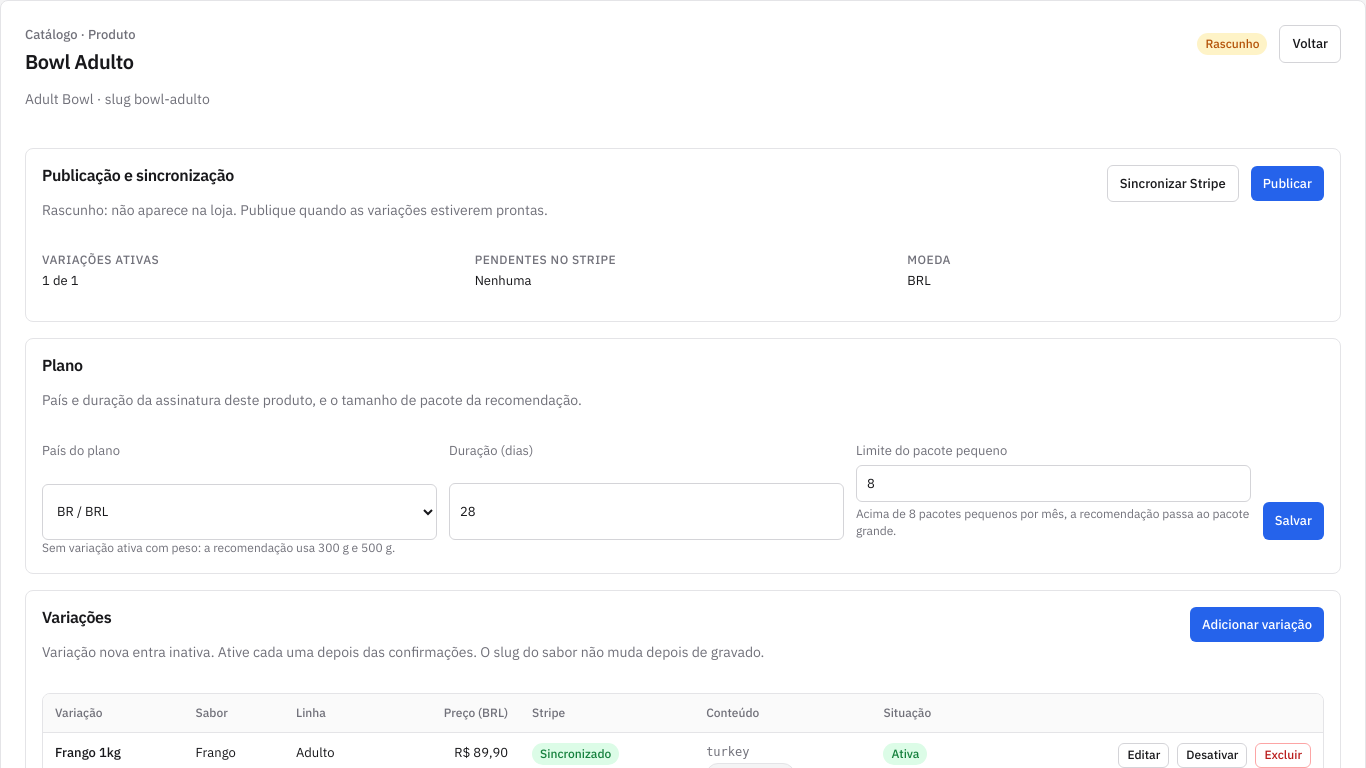
Test: ProductDetailPage › saves the variation flavor in the product payload
Click the button with aria-label "Editar variação Frango 1kg" at (1144, 755), box [1118, 743, 1169, 767]
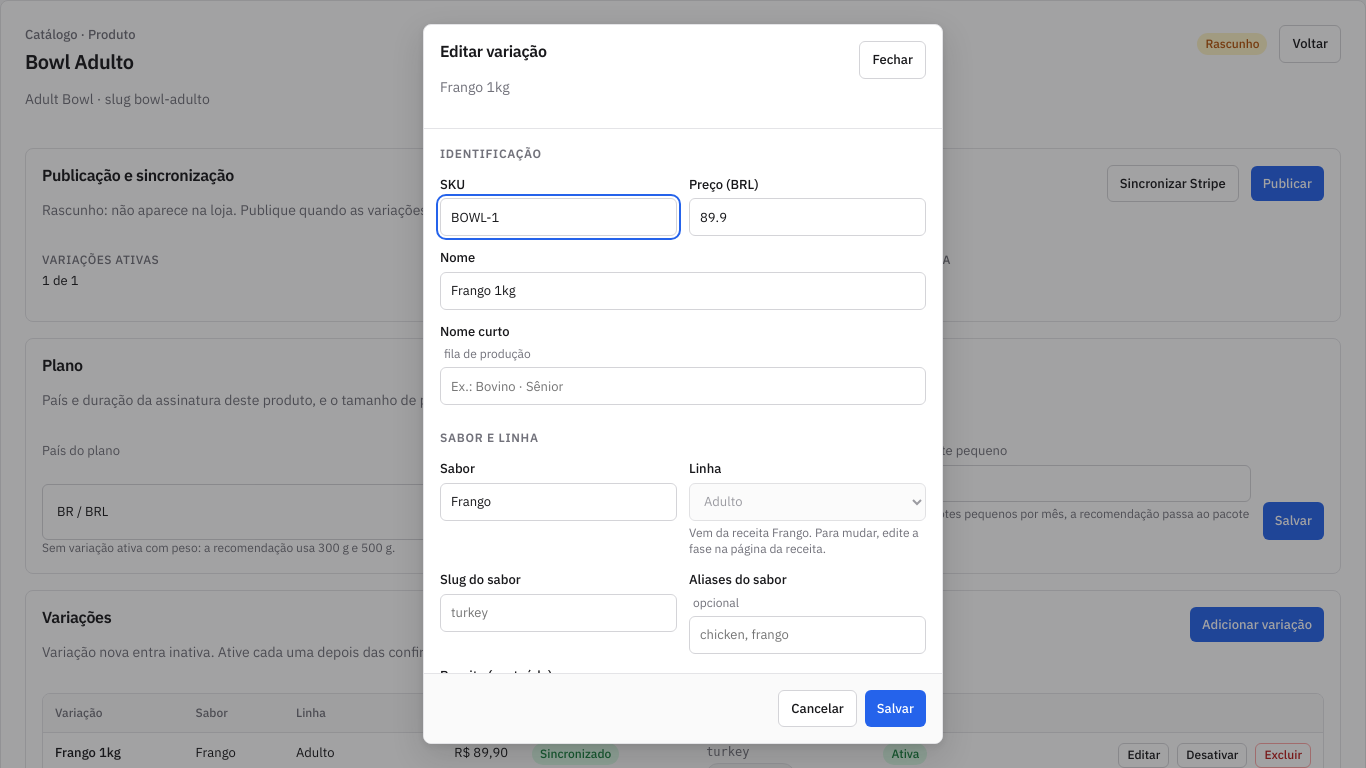
Result: the field labelled "Sabor" holds "Frango"
Replace the text in the field labelled "Sabor" with "Lamb" at (558, 502), box [440, 483, 677, 521]
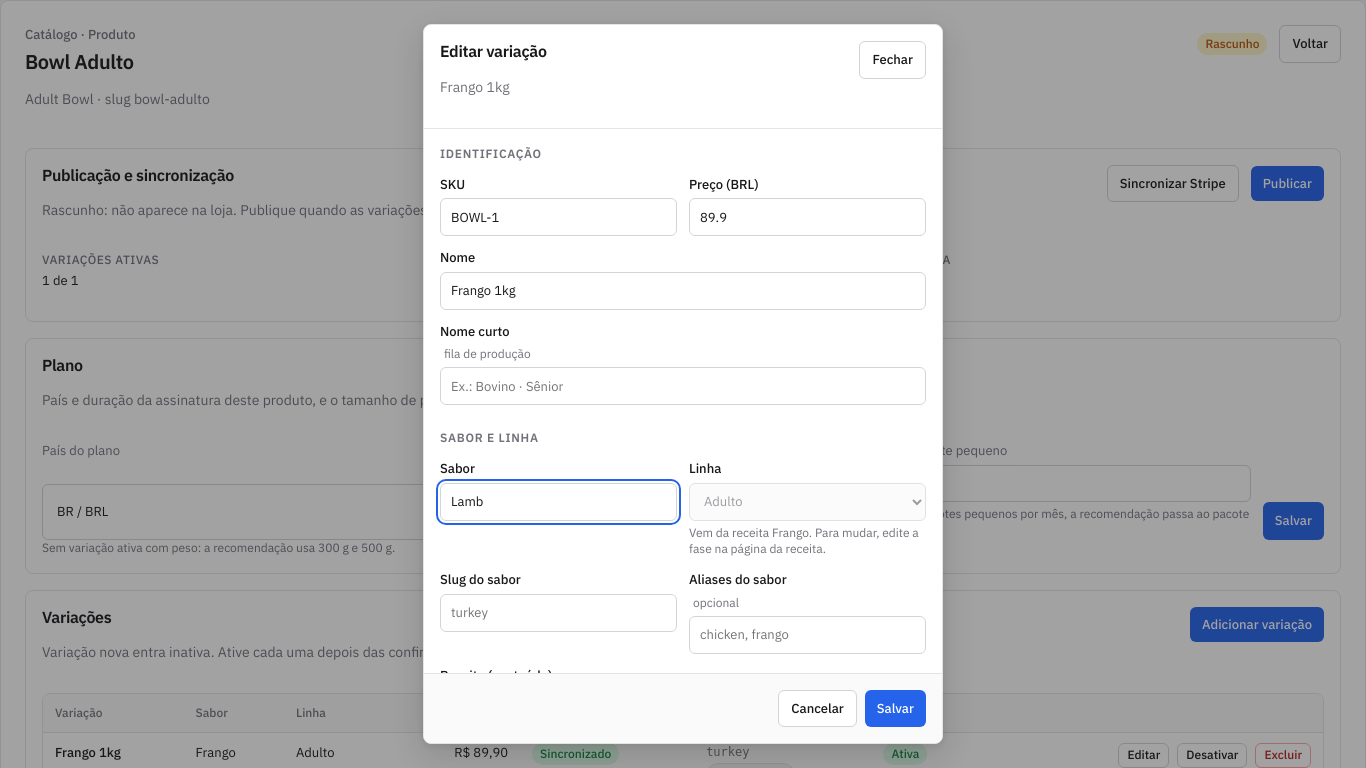
Click the button with aria-label "Salvar variação" at (895, 708), box [865, 690, 926, 727]
(page scrolled)
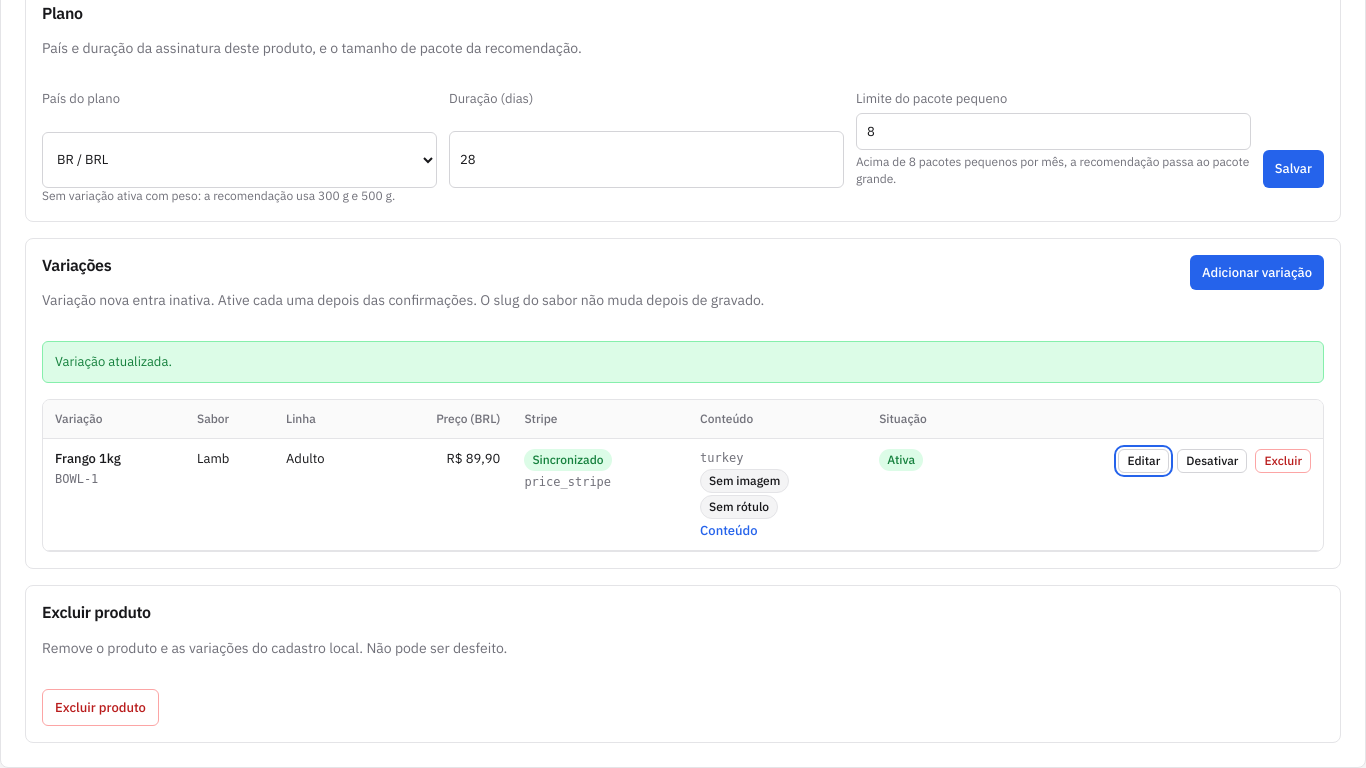
Result: the text "Variação atualizada." is shown at [42, 341, 1324, 383]
